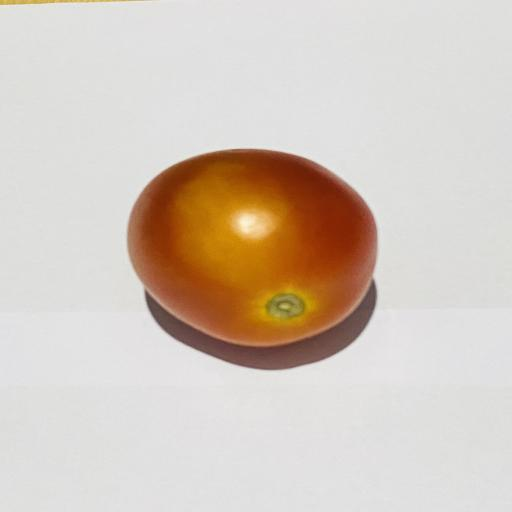ripe: (128, 149, 376, 346)
